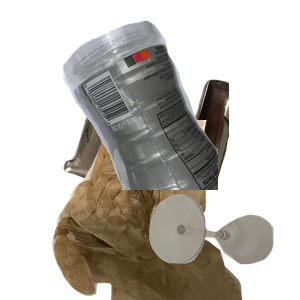glass: (147, 192, 300, 300)
metal: (60, 47, 300, 227)
plastic: (60, 18, 300, 198)
trash: (50, 120, 285, 300)
